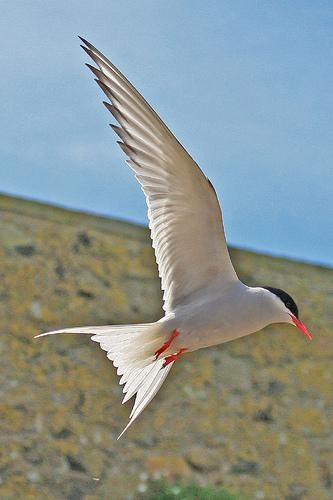bird: (30, 32, 309, 439)
